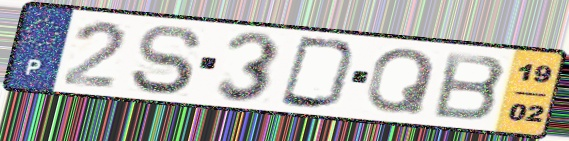2: (59, 19, 130, 91)
3: (214, 30, 284, 105)
B: (429, 50, 510, 124)
D: (276, 33, 361, 112)
Q: (363, 46, 439, 117)
S: (127, 23, 206, 97)
